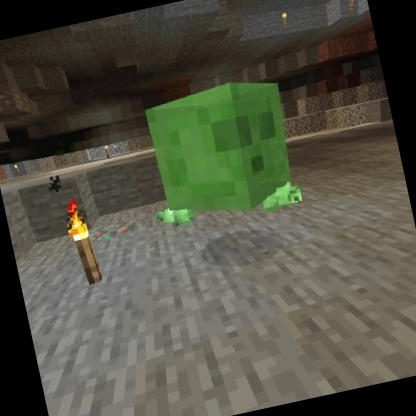slime: (139, 68, 307, 231)
